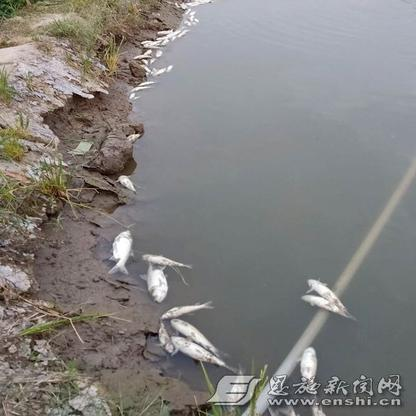deceased fish: (169, 337, 235, 372), (169, 316, 221, 355), (302, 348, 325, 416), (307, 278, 348, 308), (297, 296, 353, 317), (141, 265, 170, 303), (142, 252, 192, 272), (109, 230, 131, 275), (158, 301, 214, 318), (157, 324, 174, 354), (116, 174, 135, 191), (133, 51, 150, 59), (137, 78, 154, 85), (157, 28, 173, 35)
